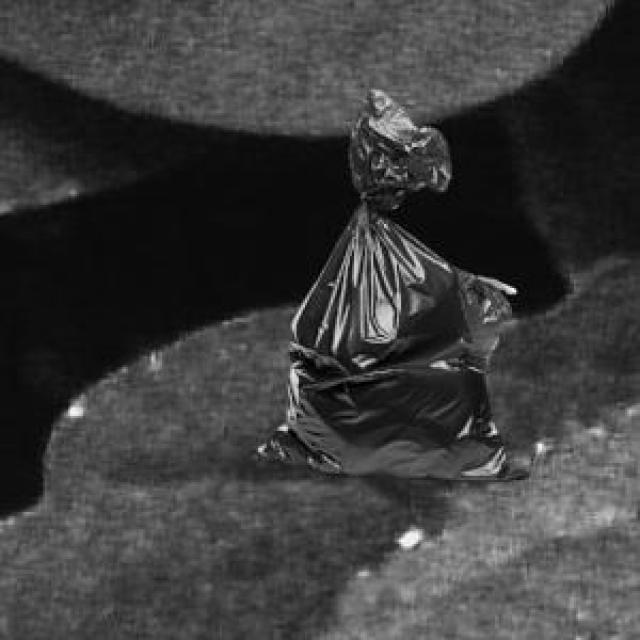miscellaneous trash: (243, 85, 527, 478), (451, 265, 512, 369)
